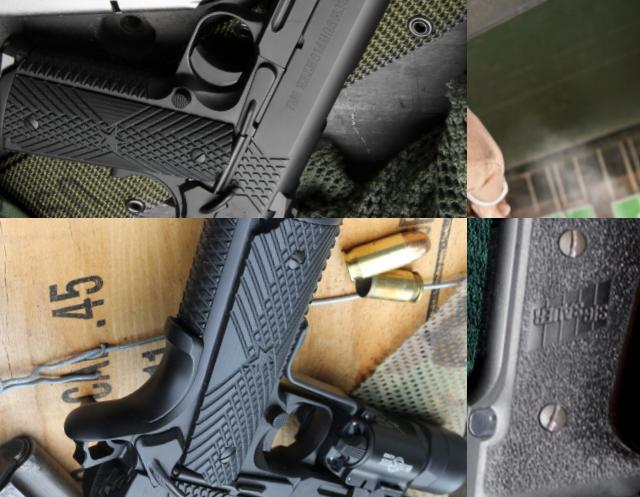handgun: (24, 218, 467, 497), (0, 0, 467, 218), (467, 218, 640, 497), (467, 196, 541, 218)
